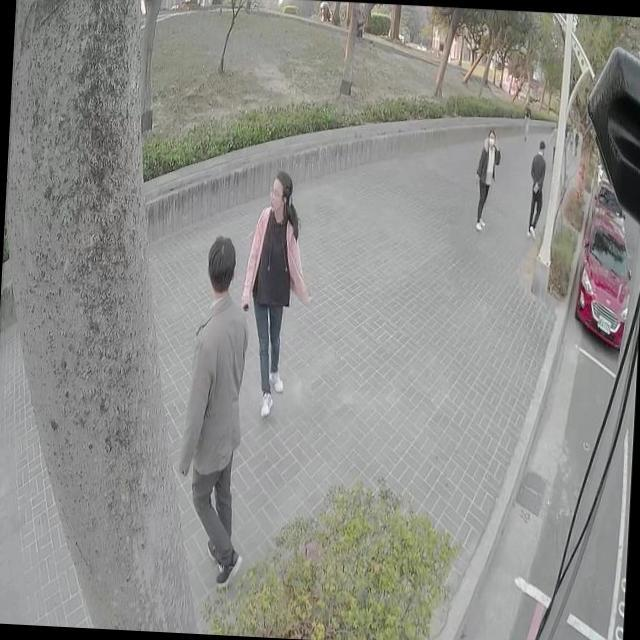person: (175, 233, 258, 584), (240, 168, 313, 418), (472, 127, 499, 228), (526, 140, 546, 236), (522, 104, 533, 138)
